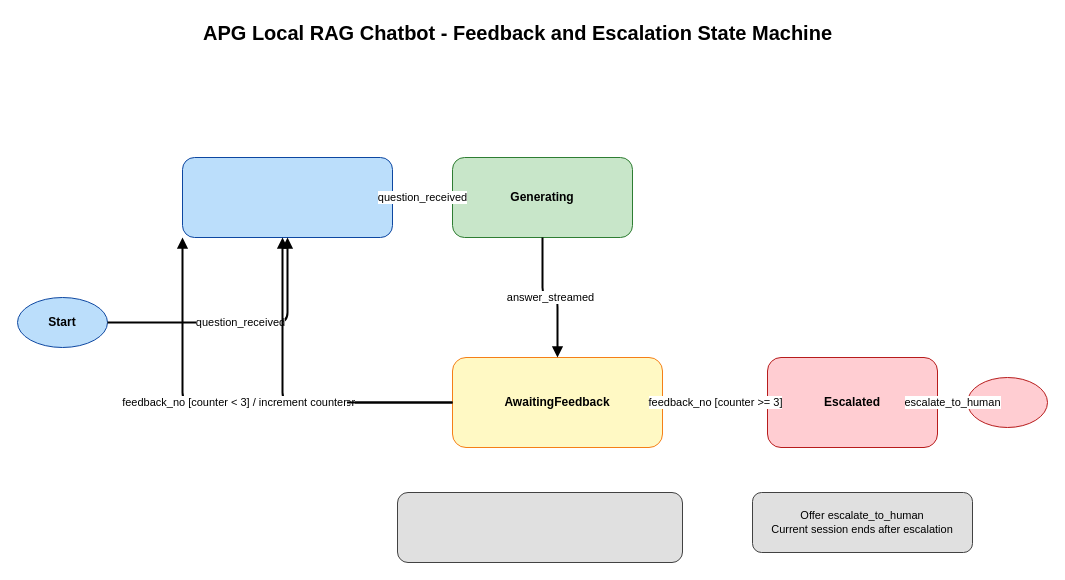
Image size: 1065x580. Some labels were removed from this diagram. Here are the shapes that lost their labels. From the top down, the centre of each, then its label:
(x=287, y=197): AwaitingQuestion
(x=1007, y=402): End
(x=539, y=527): Show "Did this answer your question?" Yes resets counter No increments counter
